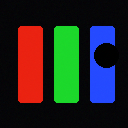2 circle: (94, 43, 118, 67)
